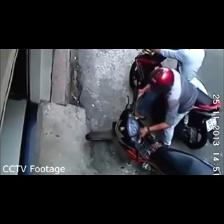person: (135, 68, 198, 146), (150, 49, 207, 95)
